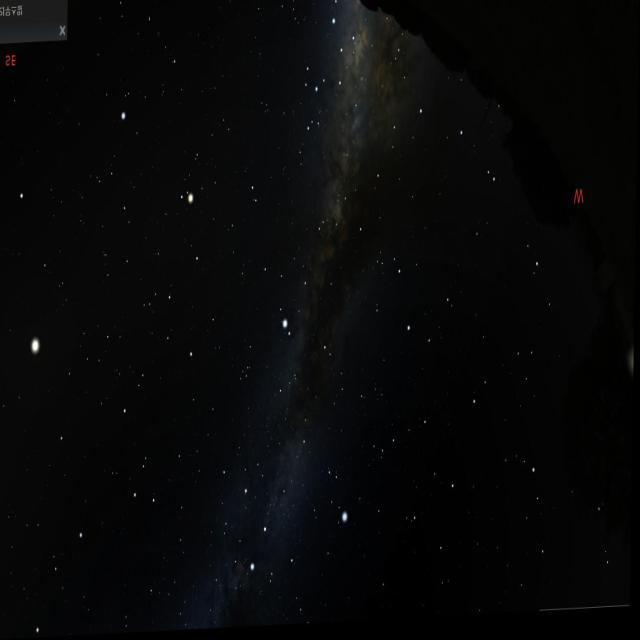aquila: (258, 208, 338, 348)
cygnus: (241, 422, 307, 585)
lyra: (318, 462, 359, 534)
sagittarius: (310, 0, 366, 110)
